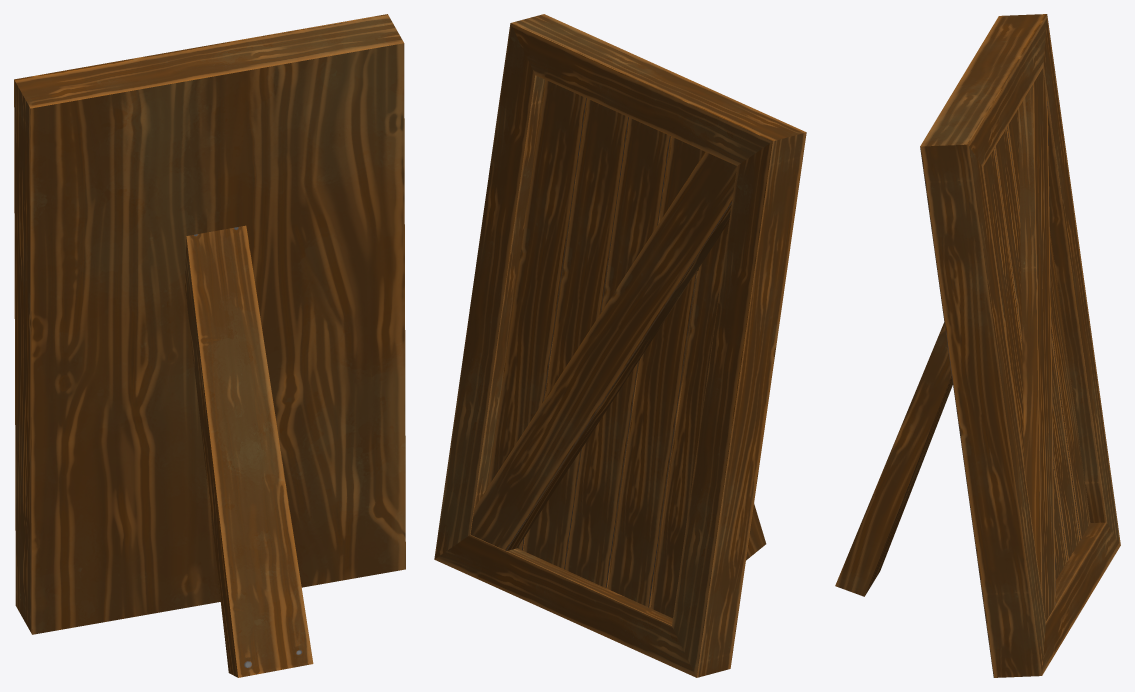
The picture shows the model from 3 angles, left to right: view 1: azimuth 30°, elevation 25°; view 2: azimuth 150°, elevation 25°; view 3: azimuth 270°, elevation 25°; orthographic projection. The views are drawn at different scales.
Parts seen in each view (by area): view 1: Cube.804; view 2: Cube.804; view 3: Cube.804.
Boxes of the visible parts, x1,y1,x2,y2 form: Cube.804: [14, 14, 405, 677]; Cube.804: [434, 14, 806, 677]; Cube.804: [835, 14, 1120, 677].
Size of the model in its own units: 237 by 349 by 169.
1 material, 1 textured.
